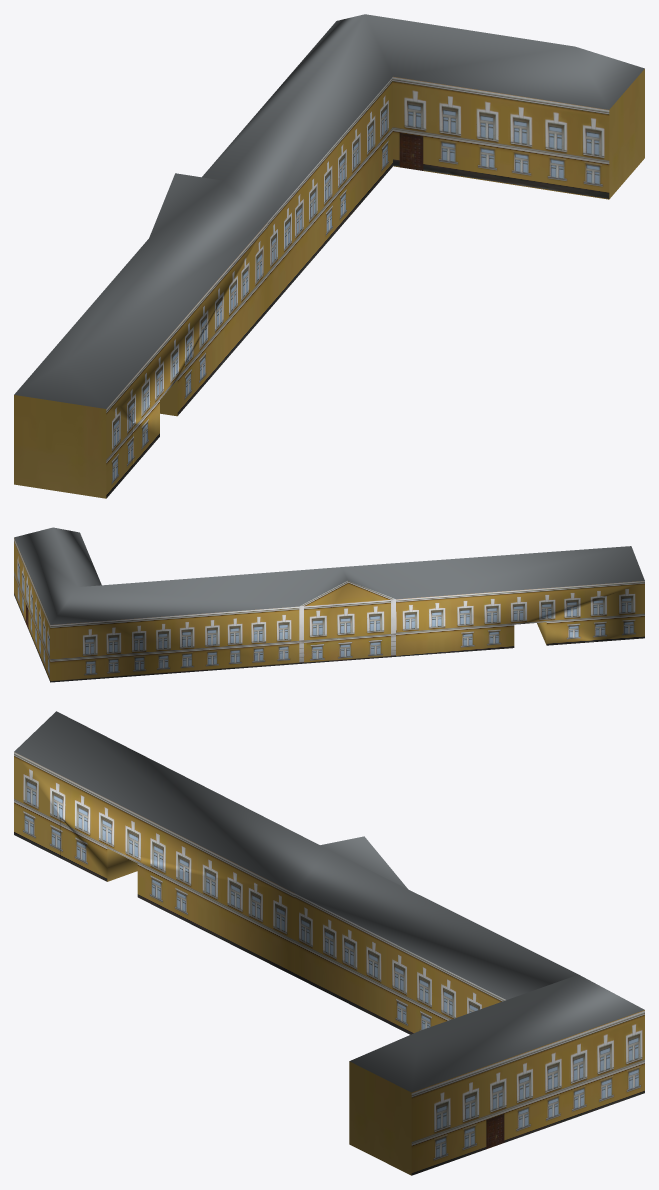
File: lp-building2.fbx
The picture shows the model from 3 angles, top to bottom: view 1: azimuth 30°, elevation 25°; view 2: azimuth 150°, elevation 25°; view 3: azimuth 270°, elevation 25°; orthographic projection. The views are drawn at different scales.
Parts seen in each view (by area): view 1: 01houses.010; view 2: 01houses.010; view 3: 01houses.010.
Part boxes in pixels (bbox=[...]): 01houses.010: bbox=[14, 14, 644, 498]; 01houses.010: bbox=[14, 527, 644, 682]; 01houses.010: bbox=[14, 711, 644, 1175].
Bounding box in the file's own units: 2874 × 423 × 2096.
1 material, 1 textured.
